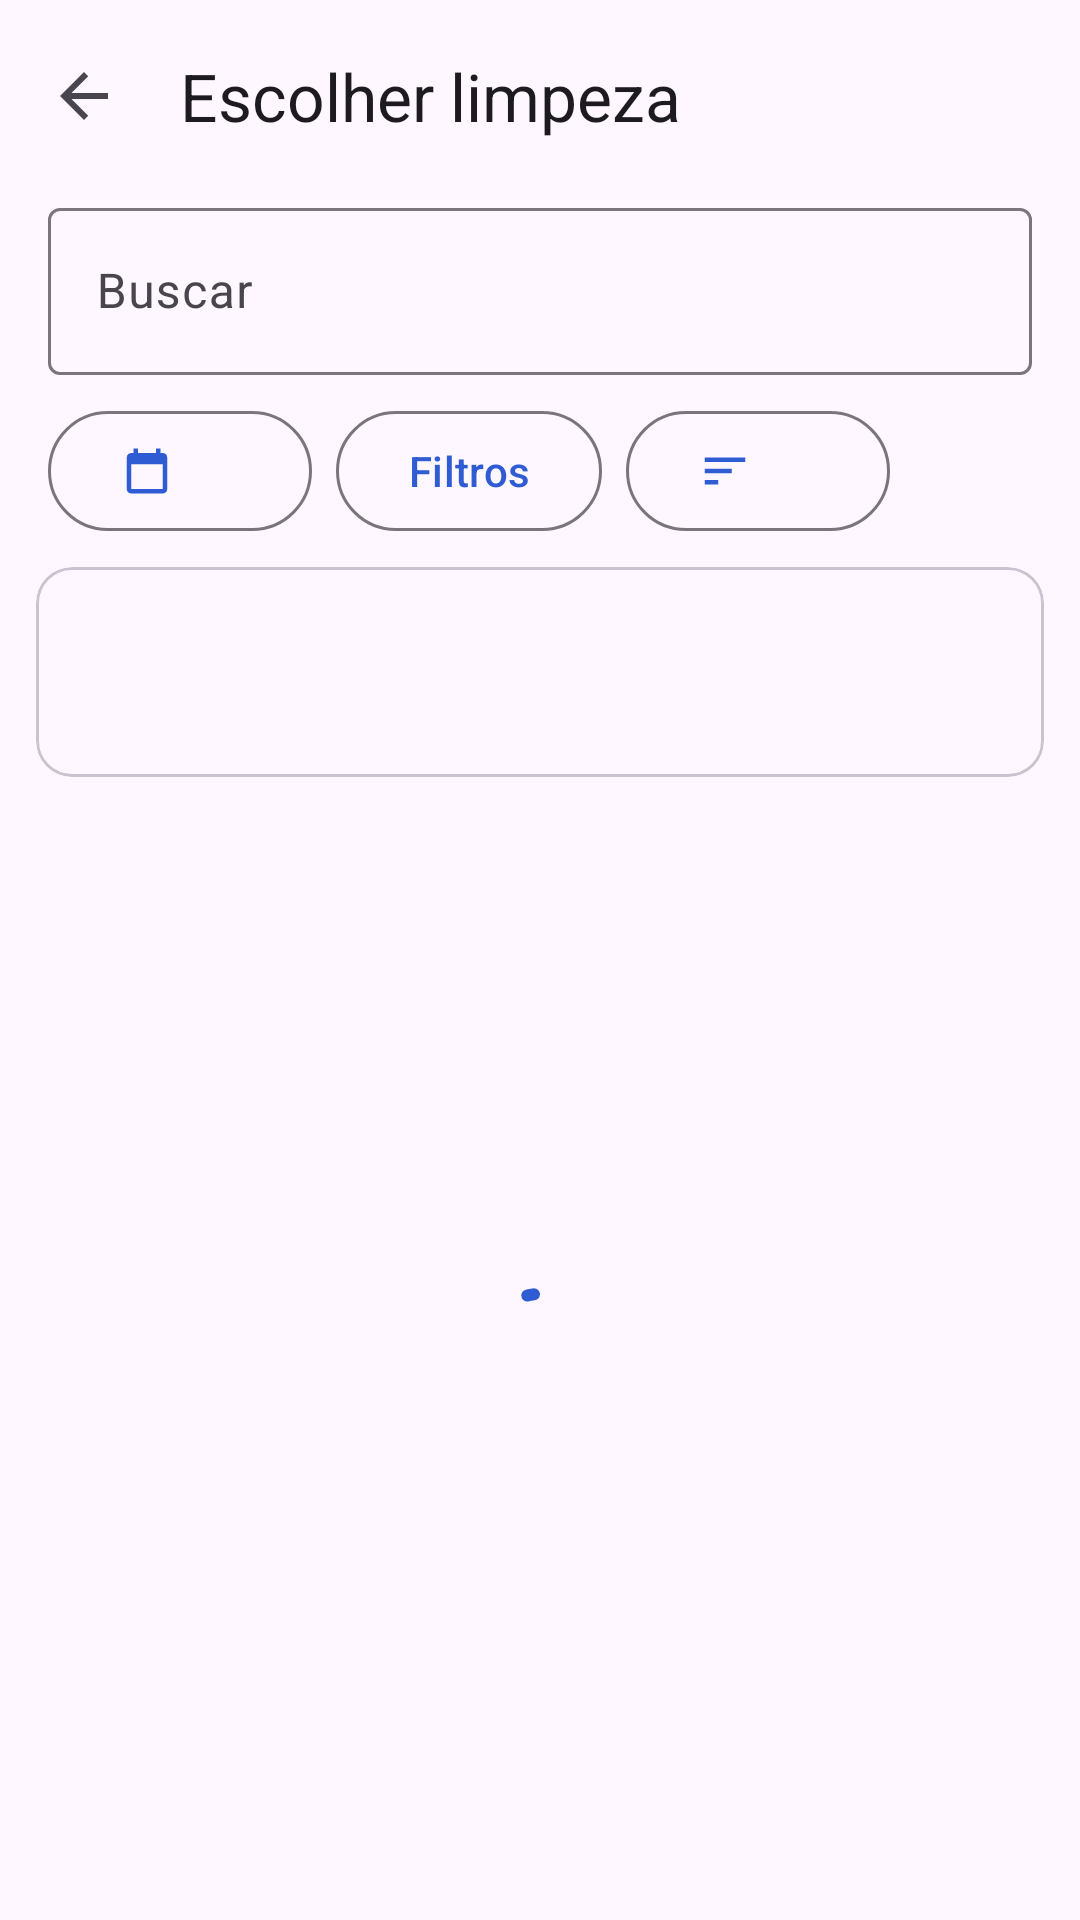

Screen size 1080*1920. Icon name, then its center in pixels as point (x, y):
calendar: point (180, 471)
sort: point (758, 471)
